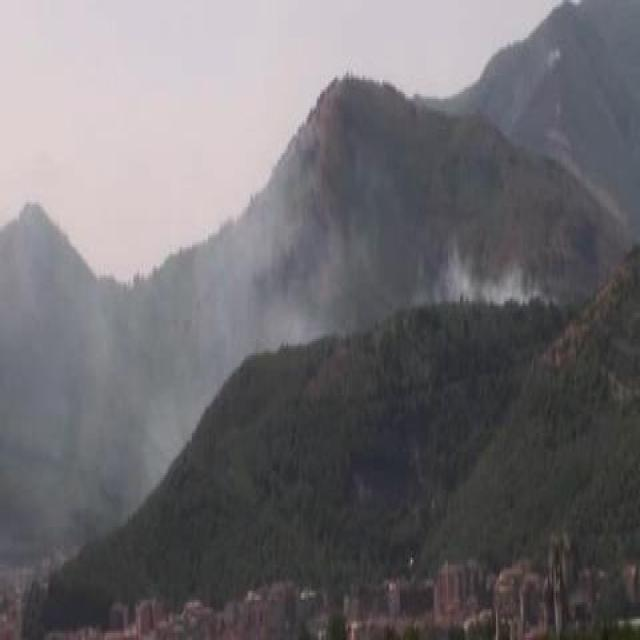Smoke: (196, 204, 312, 361), (450, 260, 535, 302)
